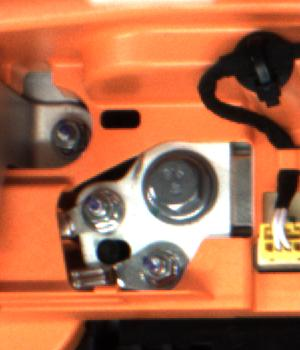nut_b: (135, 133, 226, 229)
screw_s: (46, 117, 87, 158), (79, 193, 118, 230), (140, 252, 181, 287)
